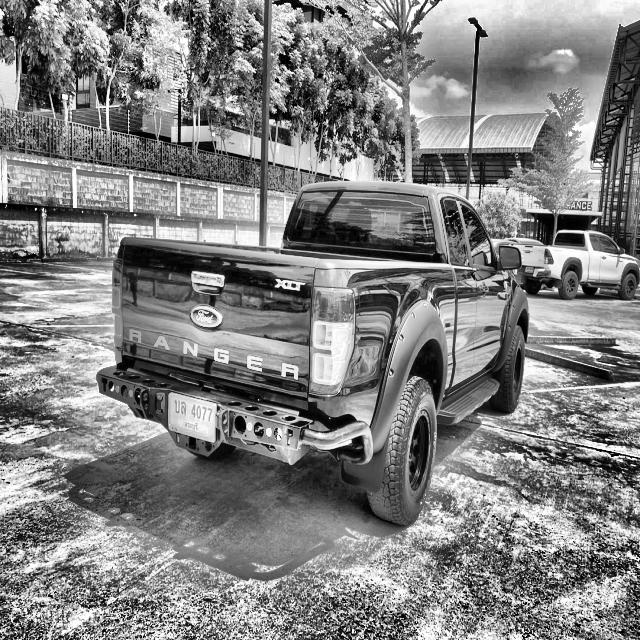license-plate: (166, 392, 217, 444)
